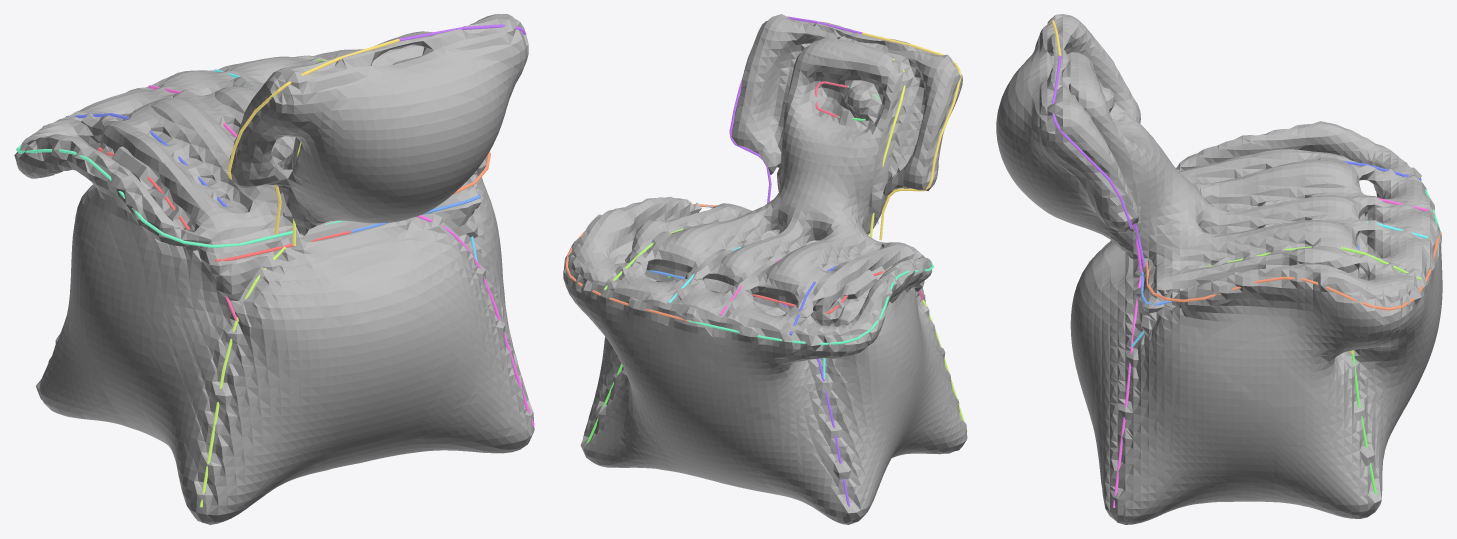
The model's file is author1_chair.gltf.
3 views of the same model, side by side, from view 1: azimuth 30°, elevation 25°; view 2: azimuth 150°, elevation 25°; view 3: azimuth 270°, elevation 25° (orthographic). The views are drawn at different scales.
Bounding box in the file's own units: 0.5687 × 0.6648 × 0.6467.
